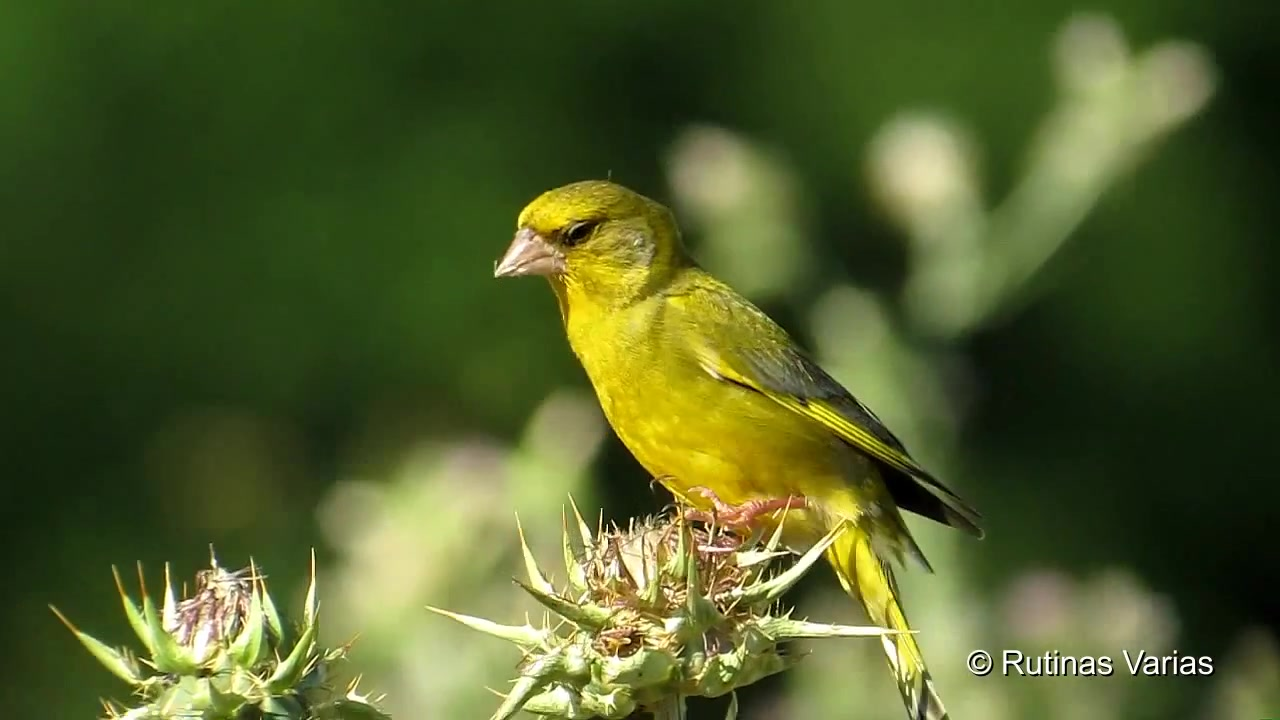bird: (492, 180, 987, 720)
